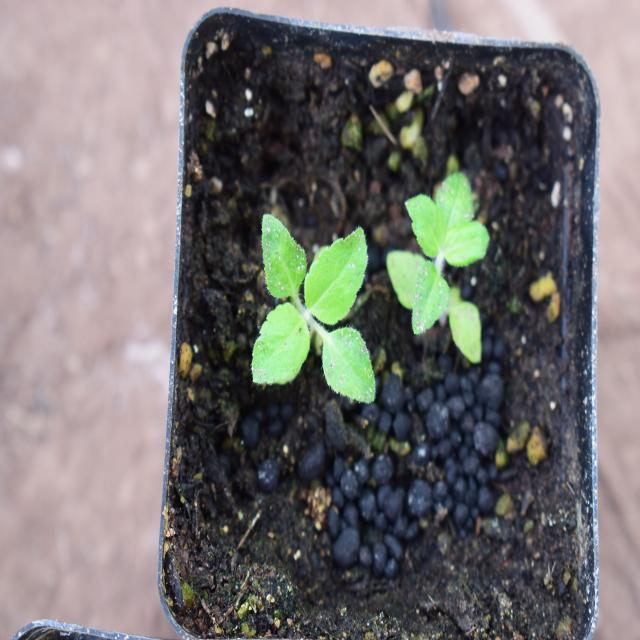billygoat_weed: (256, 218, 377, 418), (392, 174, 493, 368)
